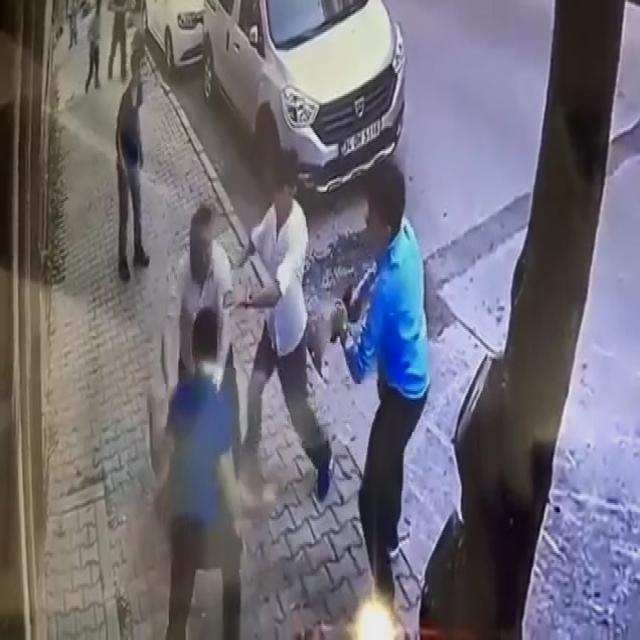fight: (146, 200, 248, 640)
